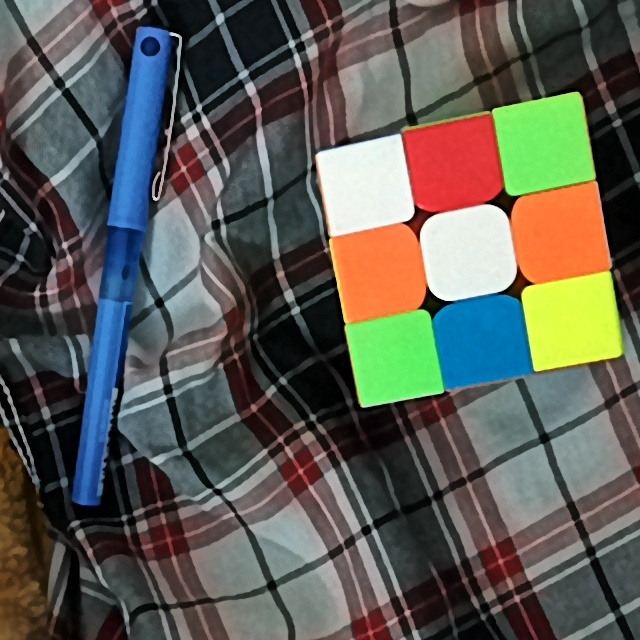tile: (503, 109, 583, 182), (521, 199, 598, 269), (535, 287, 612, 356), (331, 150, 402, 220), (447, 308, 519, 377), (429, 221, 507, 284), (418, 129, 491, 196), (343, 238, 412, 308), (360, 325, 429, 395)
